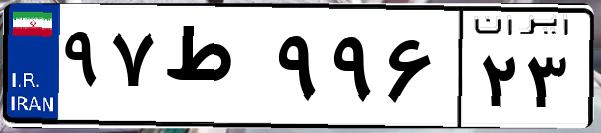2: (475, 38, 525, 113)
3: (525, 38, 570, 115)
6: (385, 28, 445, 110)
7: (110, 28, 158, 98)
9: (270, 28, 330, 110), (330, 28, 385, 110), (57, 26, 110, 100)
ط: (158, 20, 270, 120)
